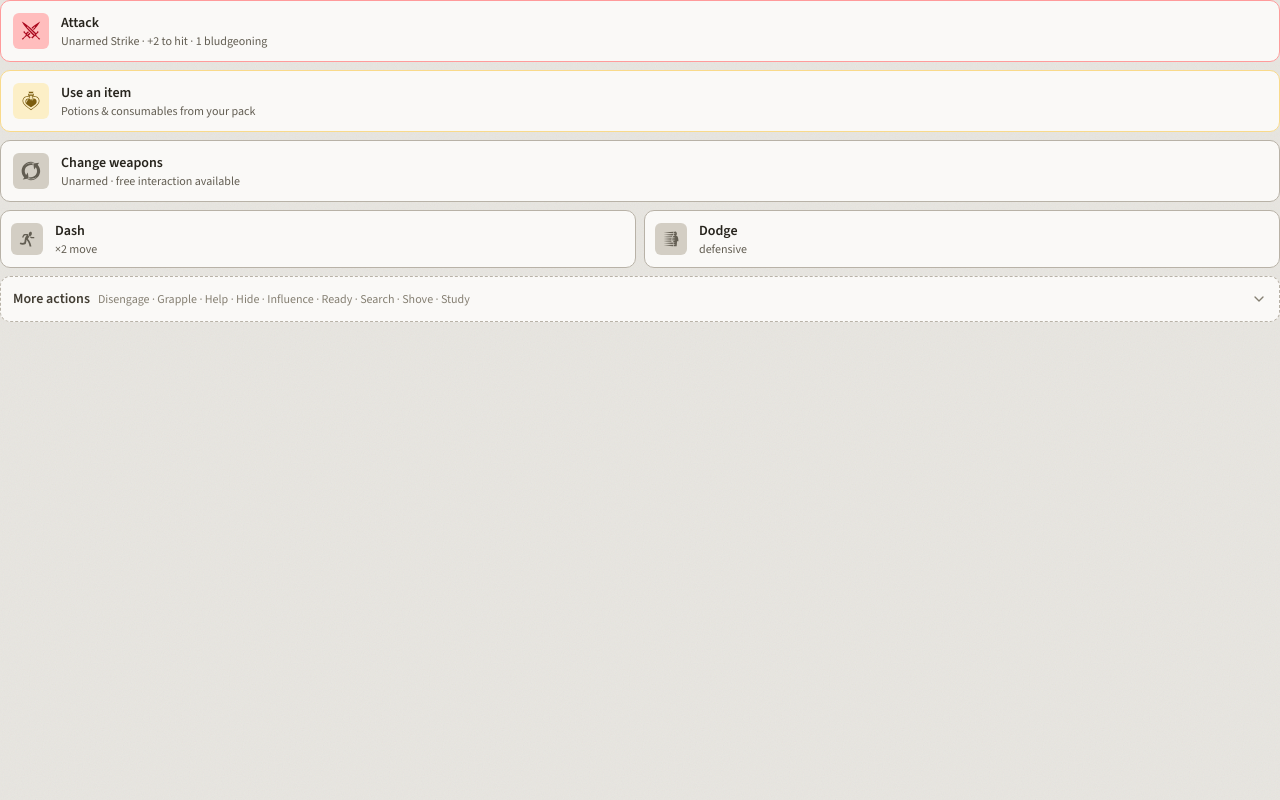
Test case: ActionSheetBody — the More-actions grid follows the served rows (#1430) › 2024: nine tiles, alphabetical, with Study and Influence
The image size is (1280, 800).
Expected: the text "Disengage · Grapple · Help · Hide · Influence · Ready · Search · Shove · Study" is shown, [98,291,470,307]
Click the button "More actions": click(51, 298) [0,276,1279,322]
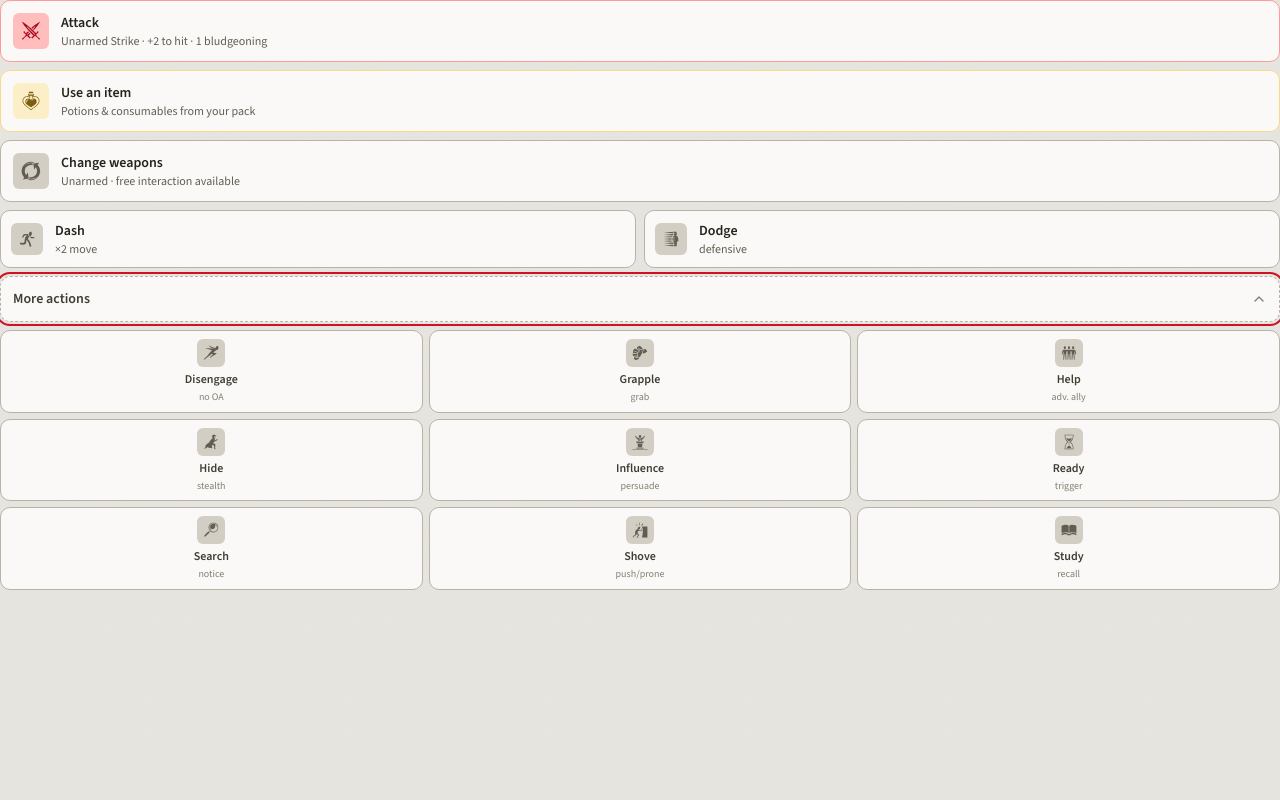
Now the button "Study recall" is shown, box [857,507,1279,590]
Now the button "Influence persuade" is shown, box [429,418,851,501]
